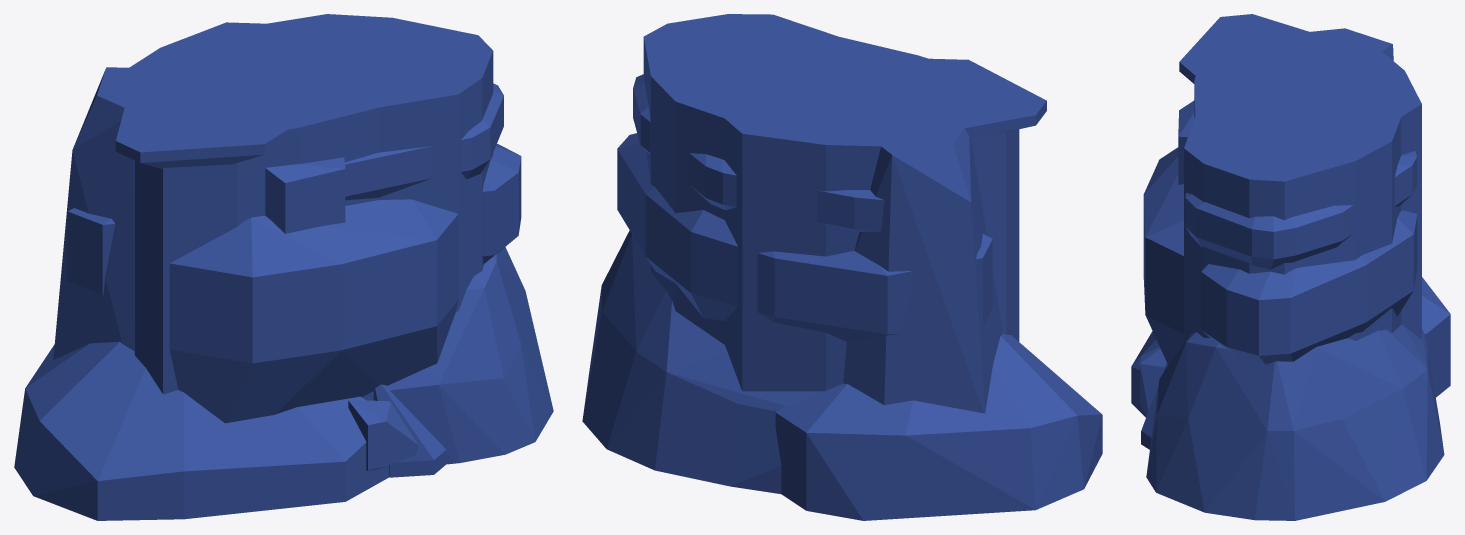
File: Cliff_Plateau_01_Collider_01.FBX
3 views of the same model, side by side, from view 1: azimuth 30°, elevation 25°; view 2: azimuth 150°, elevation 25°; view 3: azimuth 270°, elevation 25° (orthographic). The views are drawn at different scales.
Parts seen in each view (by area): view 1: COLLIDER5, COLLIDER6, COLLIDER1, COLLIDER4, COLLIDER8, COLLIDER2, COLLIDER3, COLLIDER7, COLLIDER10, COLLIDER11, COLLIDER12, COLLIDER9; view 2: COLLIDER1, COLLIDER6, COLLIDER8, COLLIDER2, COLLIDER7, COLLIDER4, COLLIDER10, COLLIDER3; view 3: COLLIDER8, COLLIDER4, COLLIDER1, COLLIDER7, COLLIDER10, COLLIDER5, COLLIDER3, COLLIDER6, COLLIDER12, COLLIDER2, COLLIDER11, COLLIDER9.
Part boxes in pixels (x1,y1,x2,y2): COLLIDER5: (169,199,458,423); COLLIDER6: (14,341,389,520); COLLIDER1: (128,22,378,394); COLLIDER4: (267,14,493,311); COLLIDER8: (362,247,553,464); COLLIDER2: (53,67,134,359); COLLIDER3: (115,102,299,168); COLLIDER7: (67,144,521,295); COLLIDER10: (345,83,503,200); COLLIDER11: (265,157,345,233); COLLIDER12: (348,400,418,470); COLLIDER9: (373,384,446,477); COLLIDER1: (724,37,1019,391); COLLIDER6: (775,333,1102,520); COLLIDER8: (582,230,822,493); COLLIDER2: (843,123,1002,413); COLLIDER7: (617,133,992,341); COLLIDER4: (643,14,838,344); COLLIDER10: (633,74,884,232); COLLIDER3: (907,58,1046,137); COLLIDER8: (1146,324,1444,520); COLLIDER4: (1184,116,1401,343); COLLIDER1: (1194,25,1421,339); COLLIDER7: (1201,210,1417,364); COLLIDER10: (1185,151,1416,269); COLLIDER5: (1143,147,1183,365); COLLIDER3: (1179,14,1321,83); COLLIDER6: (1131,277,1450,417); COLLIDER12: (1140,347,1166,415); COLLIDER2: (1297,28,1393,60); COLLIDER11: (1178,100,1194,184); COLLIDER9: (1141,363,1167,449).
Size of the model in its own units: 976 by 661 by 603.
